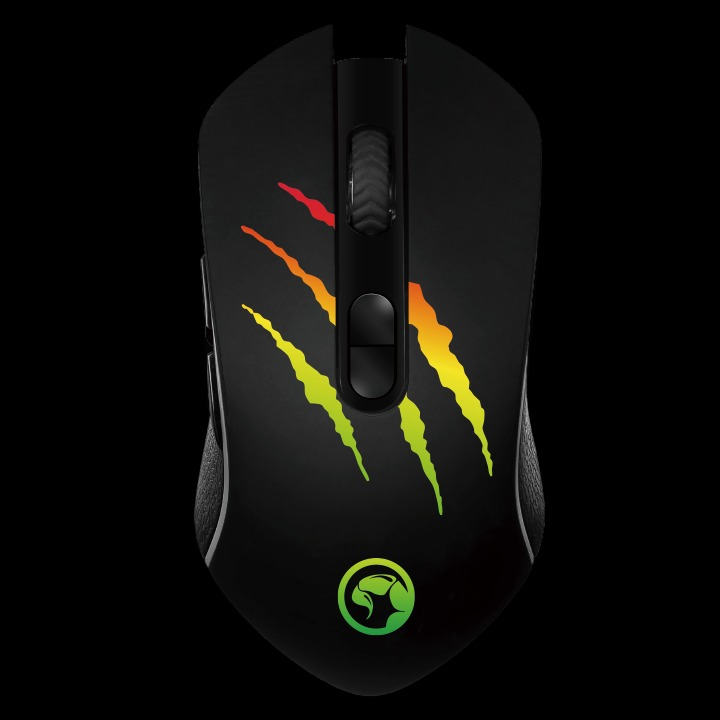mouse: (184, 8, 553, 705)
